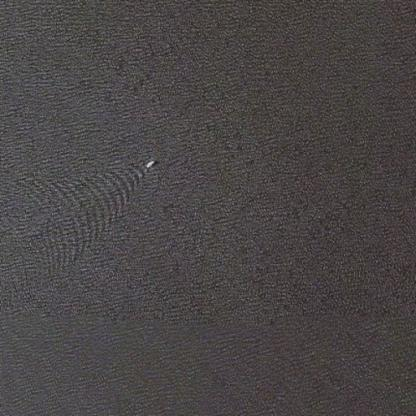ship: (142, 154, 158, 170)
